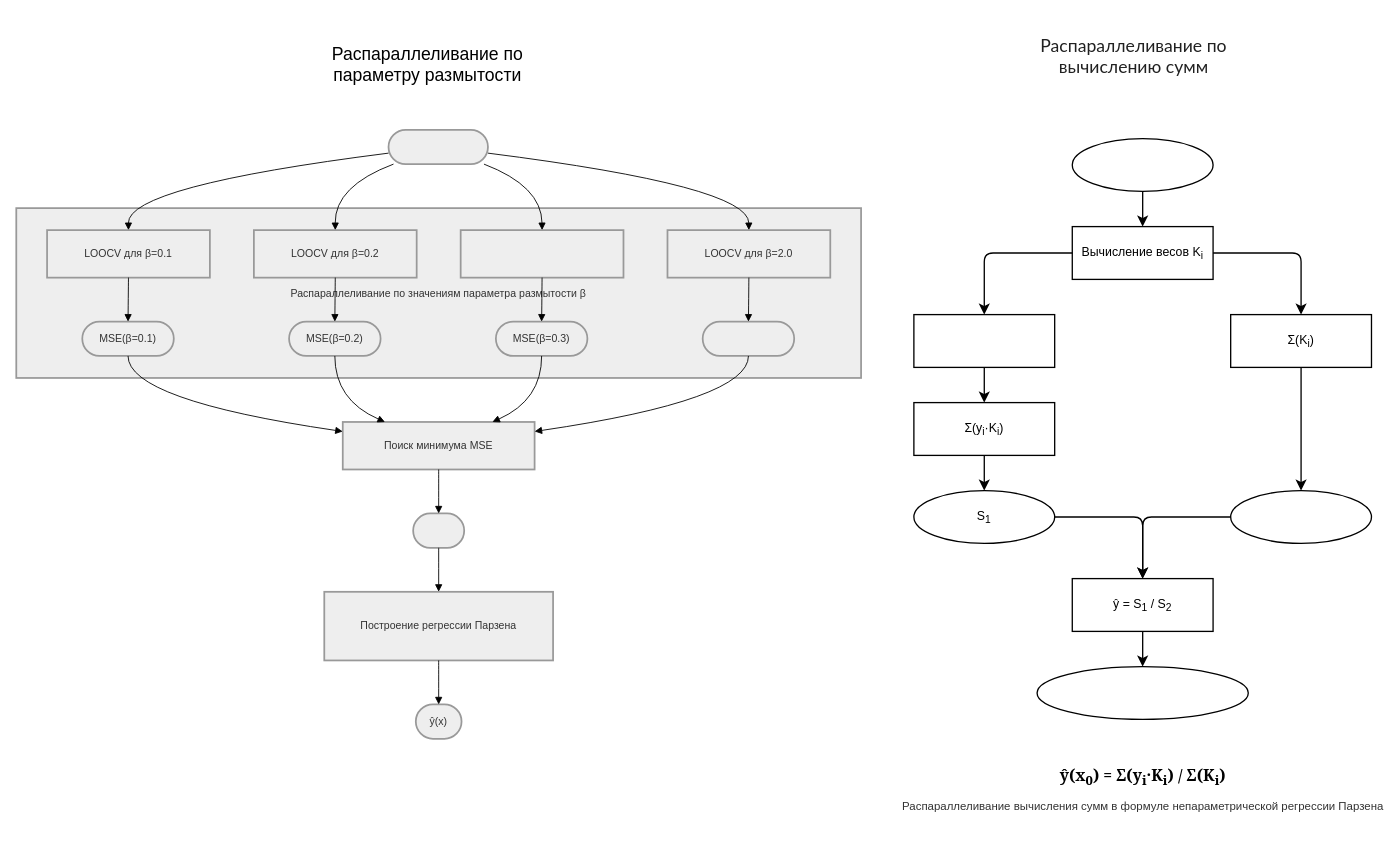
Image size: 1398x848. Some labels were removed from this diagram. The shapes that lost their labels are listed below. From the top down, each one's box as (x1, y1, x2, y2) in pixels, then its label:
(387, 128, 488, 165): Данные x, y
(1071, 138, 1213, 192): x, y, β, x 0
(459, 229, 624, 278): LOOCV для β=0.3
(701, 320, 795, 356): MSE(β=2.0)
(913, 314, 1055, 368): Вычисление y i ·K i
(412, 512, 465, 548): βopt
(1230, 490, 1372, 544): S 2
(1036, 666, 1249, 720): Предсказанное значение ŷ(x 0 )
